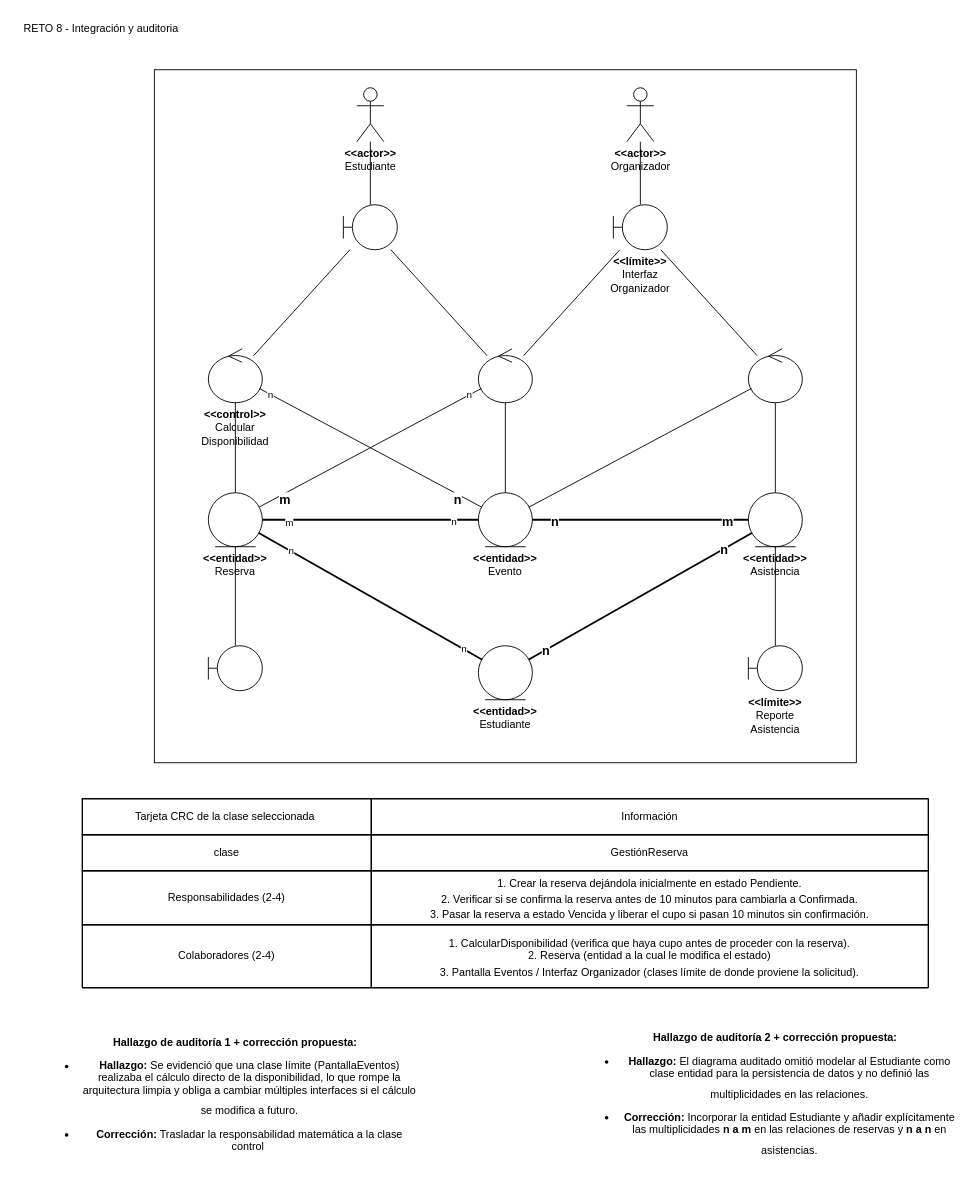
The diagram is 977 pixels wide and 1201 high, and some of its shapes have lost their labels. Here are the shapes that lost their labels. From the top down, the centre of each, then its label:
(369,227): <<límite>> Pantalla Eventos
(504,375): <<control>> Gestión Reserva
(774,375): <<control>> Gestión Asistencia
(234,668): <<límite>> Reporte Reservas
